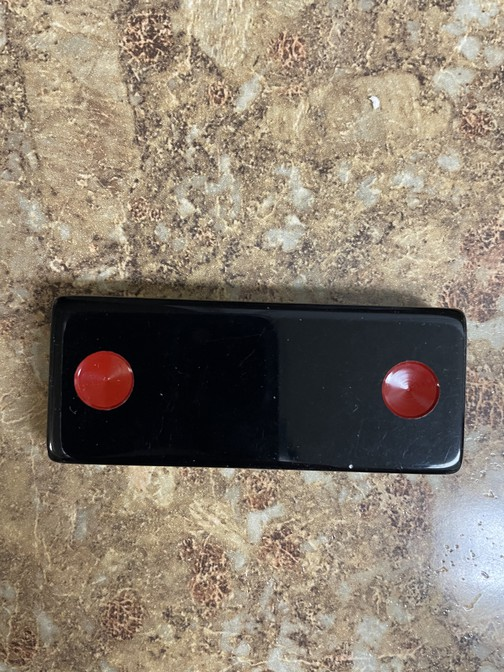earth: (48, 295, 463, 475)
